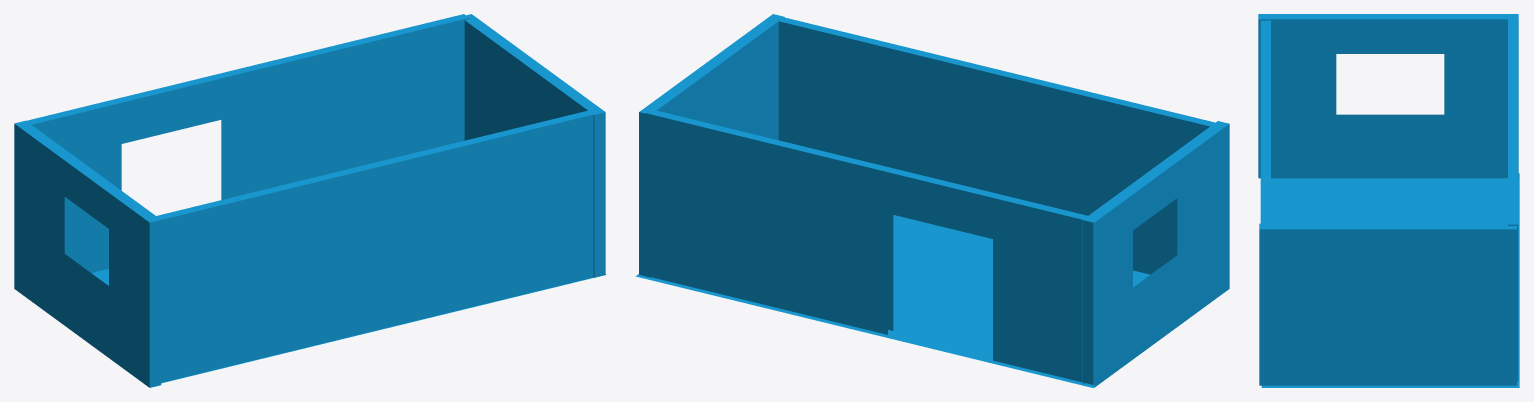
File: room2fbx.fbx
3 renders of one model, left to right at view 1: azimuth 30°, elevation 25°; view 2: azimuth 150°, elevation 25°; view 3: azimuth 270°, elevation 25°, orthographic. The views are drawn at different scales.
Visible parts, largest first — view 1: Cube.002, Cube.001, Cube, Cube.003, Plane; view 2: Cube.001, Cube.002, Cube, Plane, Cube.003; view 3: Cube.003, Cube, Plane, Cube.001, Cube.002.
Part boxes in pixels (bbox=[...]): Cube.002: bbox=[156, 109, 597, 382]; Cube.001: bbox=[16, 14, 469, 272]; Cube: bbox=[14, 120, 161, 387]; Cube.003: bbox=[464, 14, 605, 277]; Plane: bbox=[91, 269, 606, 383]; Cube.001: bbox=[645, 109, 1096, 384]; Cube.002: bbox=[774, 16, 1214, 274]; Cube: bbox=[1082, 121, 1229, 387]; Plane: bbox=[635, 215, 1149, 387]; Cube.003: bbox=[639, 14, 784, 277]; Cube.003: bbox=[1259, 223, 1516, 385]; Cube: bbox=[1258, 14, 1518, 178]; Plane: bbox=[1261, 173, 1519, 387]; Cube.001: bbox=[1508, 14, 1518, 381]; Cube.002: bbox=[1260, 20, 1270, 225].
Size of the model in its own units: 395 by 136 by 203.
